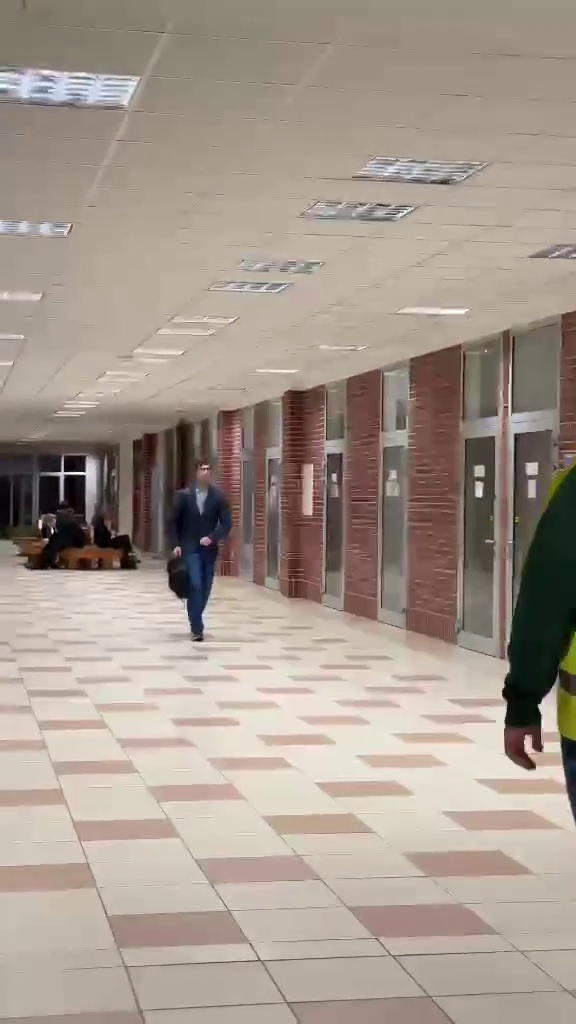no vest: (160, 457, 234, 638)
